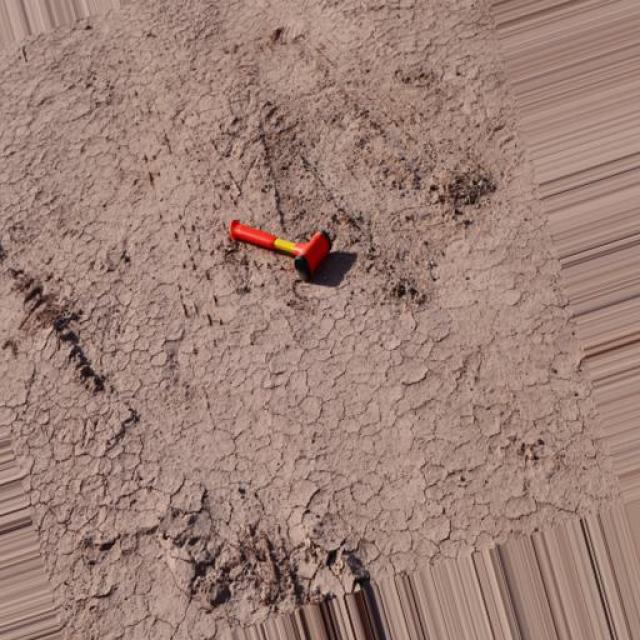mallet: (226, 218, 332, 280)
